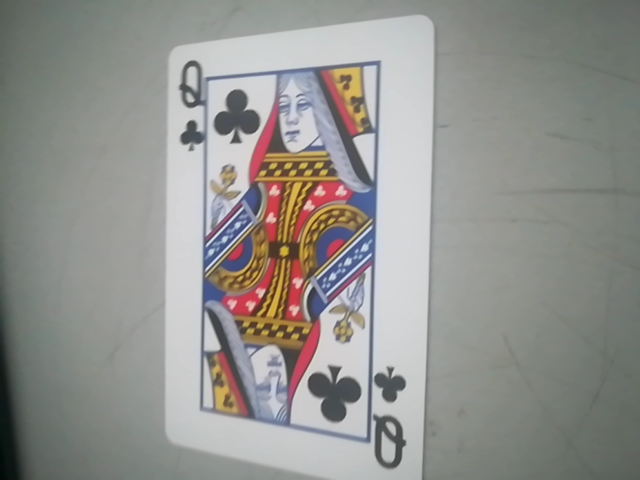mh q: (162, 17, 437, 480)
